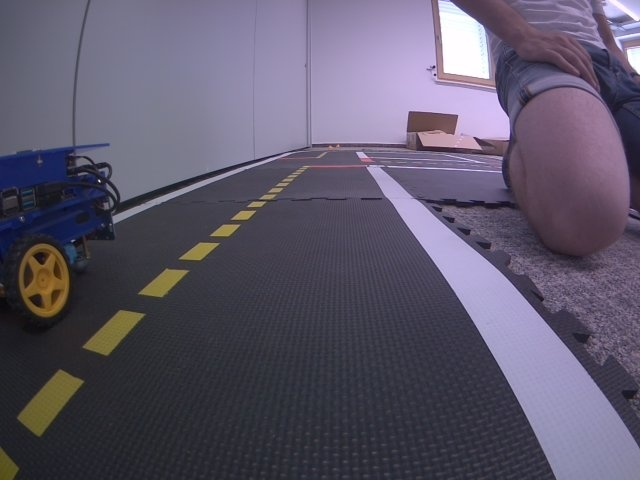Bot: (0, 142, 121, 332)
